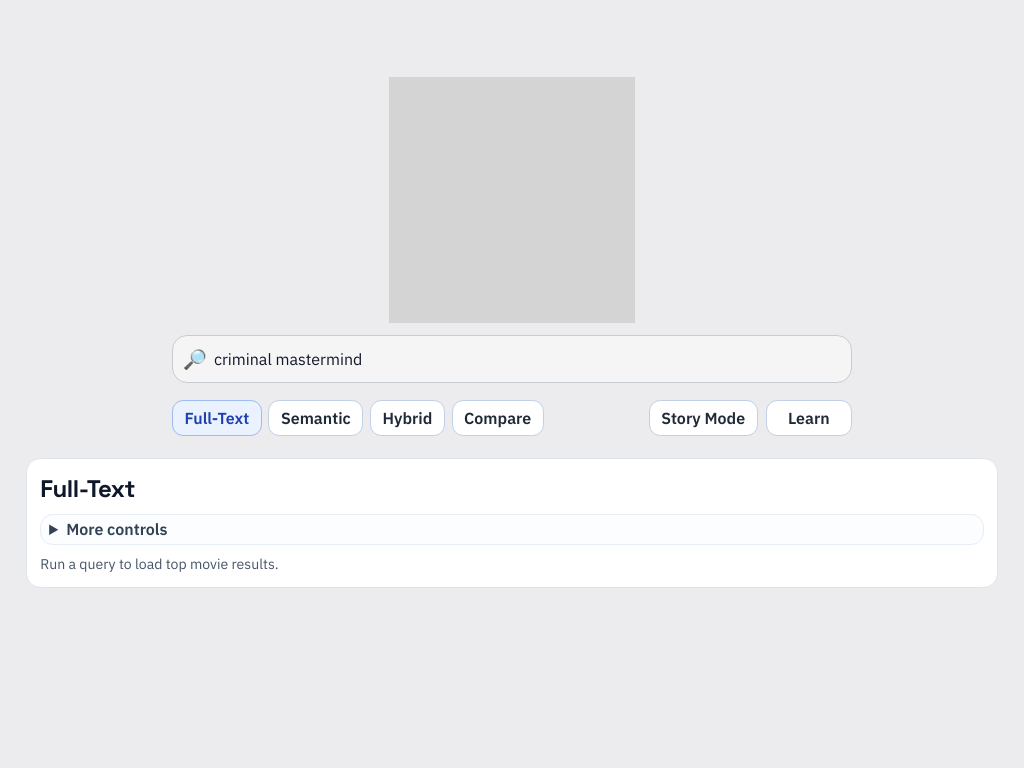
Test: App › renders compare table view
Step 1. Click the tab "Compare" → (498, 418), box [452,400,544,436]
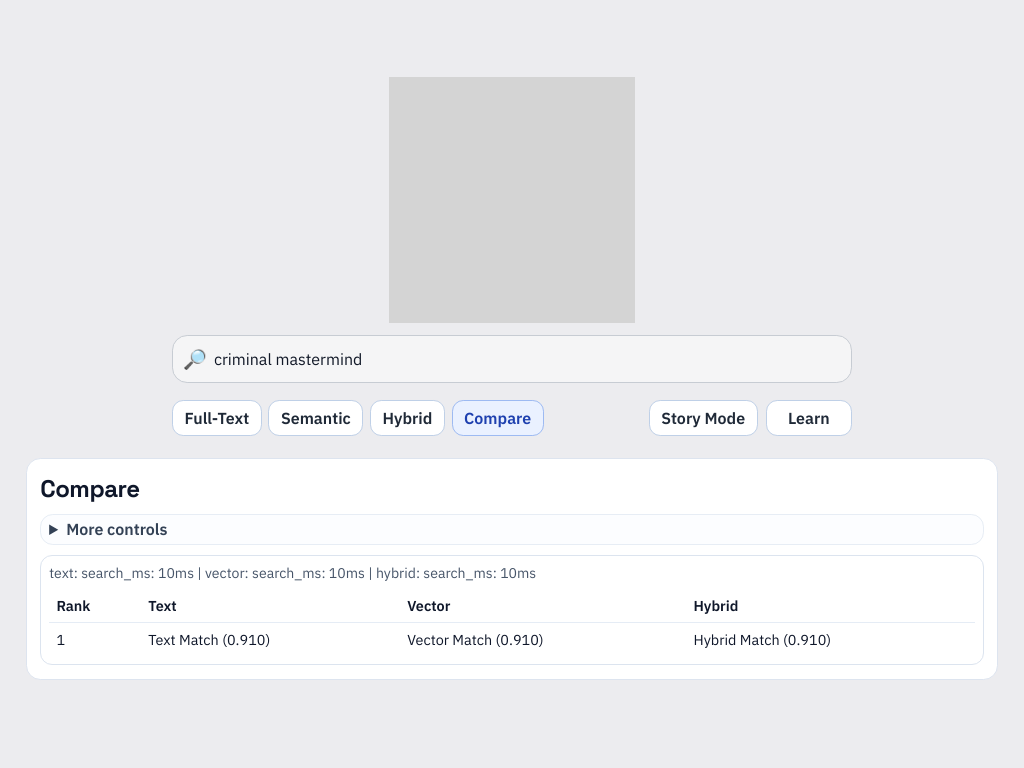
Expected: the table is shown, [49,589,975,656]
Expected: the column heading "Text" is shown, [141,589,400,623]
Expected: the column heading "Vector" is shown, [400,589,686,623]
